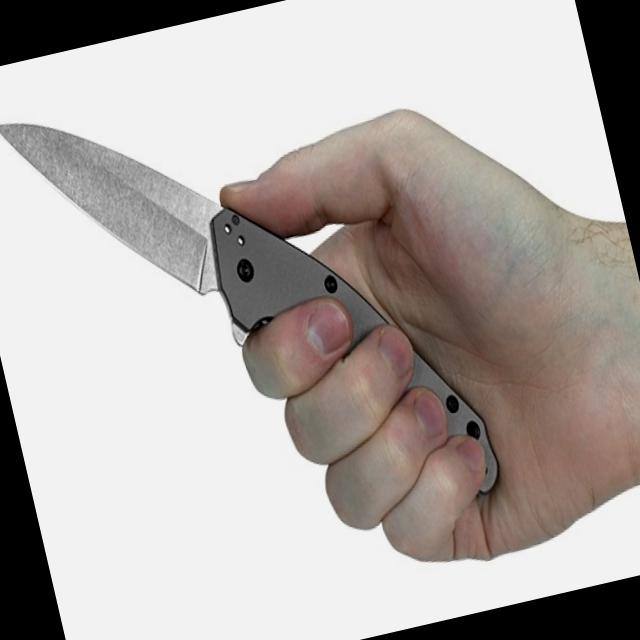knife: (0, 22, 512, 593)
